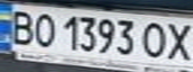1: (57, 12, 81, 52)
3: (115, 17, 142, 56), (75, 14, 96, 53)
9: (93, 16, 118, 55)
B: (3, 7, 39, 46)
O: (139, 19, 172, 60), (27, 10, 57, 48)
X: (160, 19, 193, 62)
